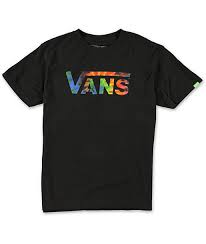vans: (65, 71, 130, 96)
